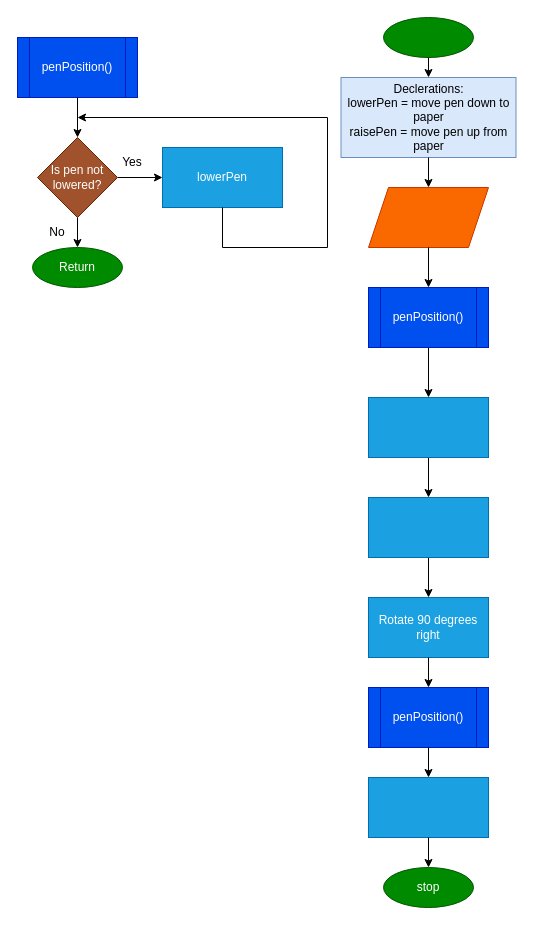
Image size: 534x925. Some labels were removed from this diagram. Each missing label, with the centre of its shape:
"Draw 1 inch line going to the right" goes at point 428,427.
"Draw a circle 1 inch in diameter going clockwise from pen starting position" goes at point 428,807.
"Input robot arm control" goes at point 428,217.
"raisePen" goes at point 428,527.
"Start" goes at point 428,37.
